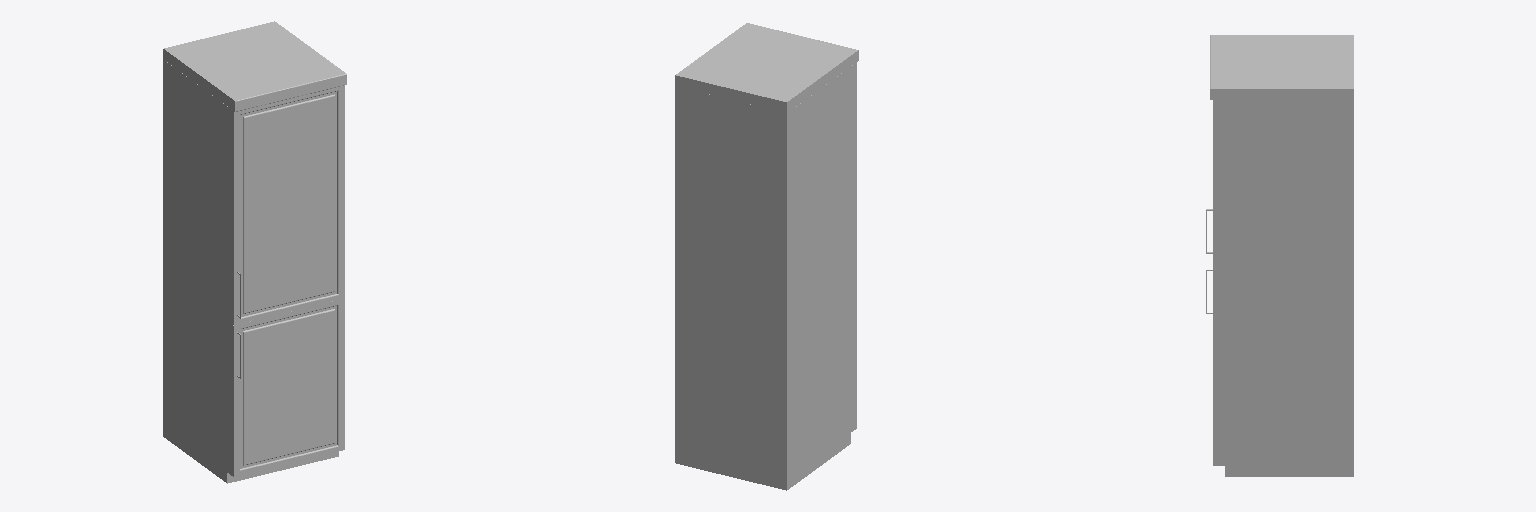
Rendered from Fridge.obj.
3 renders of one model, left to right at view 1: azimuth 30°, elevation 25°; view 2: azimuth 150°, elevation 25°; view 3: azimuth 270°, elevation 25°, orthographic.
Visible parts, largest first — view 1: KitchenModular:FridgeKitchencabinet, KitchenModular:FridgeCabinet_Door5, Fridge, KitchenModular:FridgeCabinet_Surface, KitchenModular:FridgeKitchencabinet2, KitchenModular:FridgeInsideCabinet3; view 2: KitchenModular:FridgeInsideCabinet3, KitchenModular:FridgeKitchencabinet, KitchenModular:FridgeCabinet_Surface, KitchenModular:FridgeKitchencabinet2; view 3: KitchenModular:FridgeKitchencabinet1, KitchenModular:FridgeCabinet_Surface, KitchenModular:FridgeKitchencabinet2, KitchenModular:FridgeInsideCabinet3, KitchenModular:FridgeCabinet_Door5.
Part boxes in pixels (x1,y1,x2,y2): KitchenModular:FridgeKitchencabinet: (165,61,231,475); KitchenModular:FridgeCabinet_Door5: (232,85,344,324); Fridge: (232,299,344,476); KitchenModular:FridgeCabinet_Surface: (163,21,346,111); KitchenModular:FridgeKitchencabinet2: (165,427,338,483); KitchenModular:FridgeInsideCabinet3: (163,60,164,437); KitchenModular:FridgeInsideCabinet3: (675,86,787,490); KitchenModular:FridgeKitchencabinet: (788,63,855,478); KitchenModular:FridgeCabinet_Surface: (675,23,858,112); KitchenModular:FridgeKitchencabinet2: (788,433,850,489); KitchenModular:FridgeKitchencabinet1: (1216,100,1350,465); KitchenModular:FridgeCabinet_Surface: (1210,35,1353,99); KitchenModular:FridgeKitchencabinet2: (1225,466,1350,476); KitchenModular:FridgeInsideCabinet3: (1351,100,1353,476); KitchenModular:FridgeCabinet_Door5: (1213,100,1215,314).
Bounding box in the file's own units: 4.13 × 13.69 × 4.71.